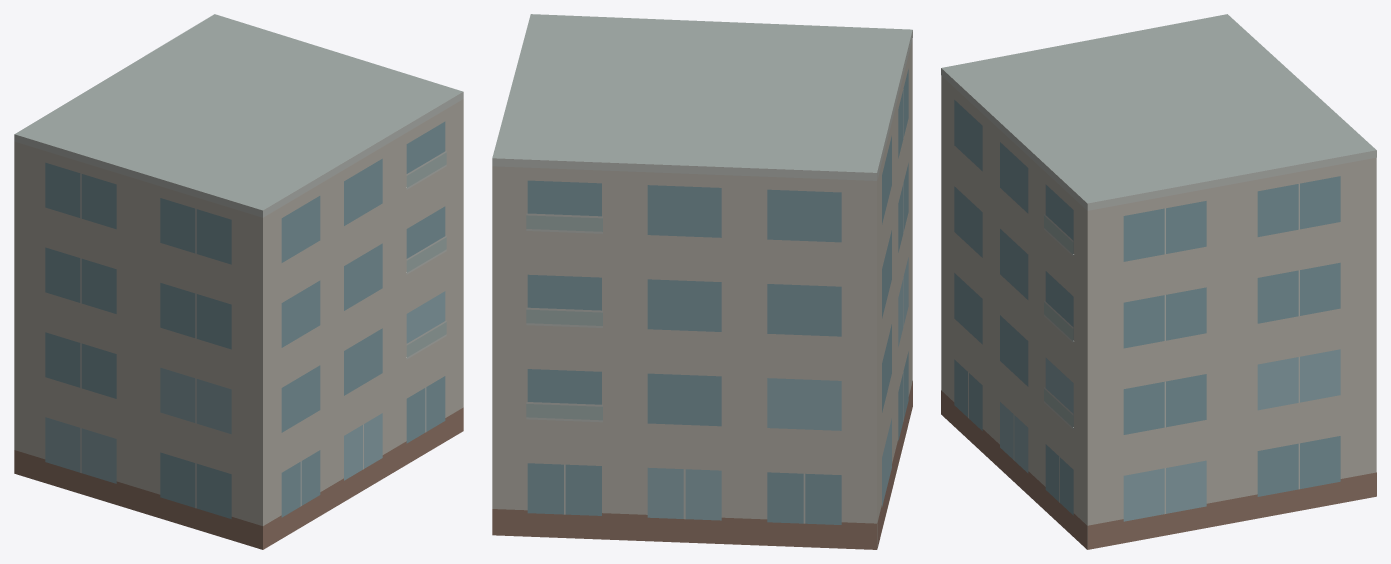
The model's file is survey-upis-32809057.glb.
3 renders of one model, left to right at view 1: azimuth 30°, elevation 25°; view 2: azimuth 150°, elevation 25°; view 3: azimuth 270°, elevation 25°, orthographic. The views are drawn at different scales.
Parts seen in each view (by area): view 1: survey-upis-32809057.tmp; view 2: survey-upis-32809057.tmp; view 3: survey-upis-32809057.tmp.
Boxes of the visible parts, x1=… form: survey-upis-32809057.tmp: x1=14, y1=14, x2=463, y2=549; survey-upis-32809057.tmp: x1=492, y1=14, x2=912, y2=549; survey-upis-32809057.tmp: x1=941, y1=14, x2=1376, y2=549.
Size of the model in its own units: 13.45 by 11.45 by 13.06.
